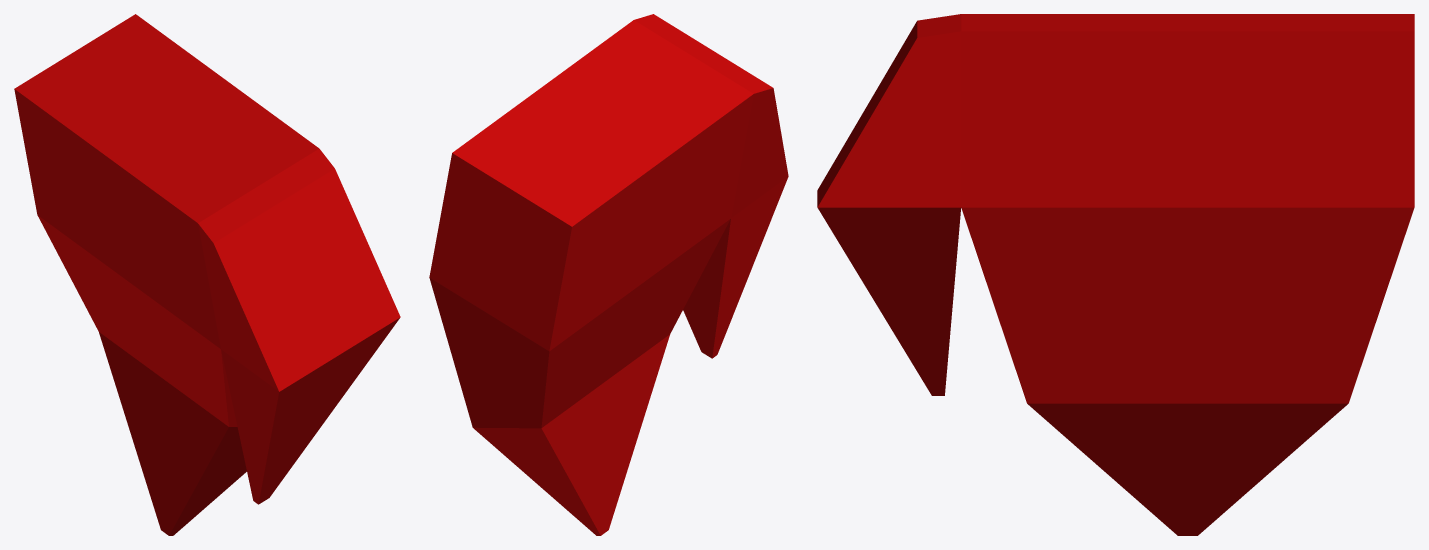
The model's file is boss_right_arm_palm.obj.
3 views of the same model, side by side, from view 1: azimuth 30°, elevation 25°; view 2: azimuth 150°, elevation 25°; view 3: azimuth 270°, elevation 25° (orthographic). The views are drawn at different scales.
Visible parts, largest first — view 1: float_L_arm_palm; view 2: float_L_arm_palm; view 3: float_L_arm_palm.
Part boxes in pixels (x1=…): float_L_arm_palm: x1=14, y1=14, x2=400, y2=535; float_L_arm_palm: x1=429, y1=14, x2=788, y2=535; float_L_arm_palm: x1=817, y1=14, x2=1414, y2=535.
Size of the model in its own units: 0.1712 by 0.488 by 0.4893.
Materials: 1 (1 with a texture image).
